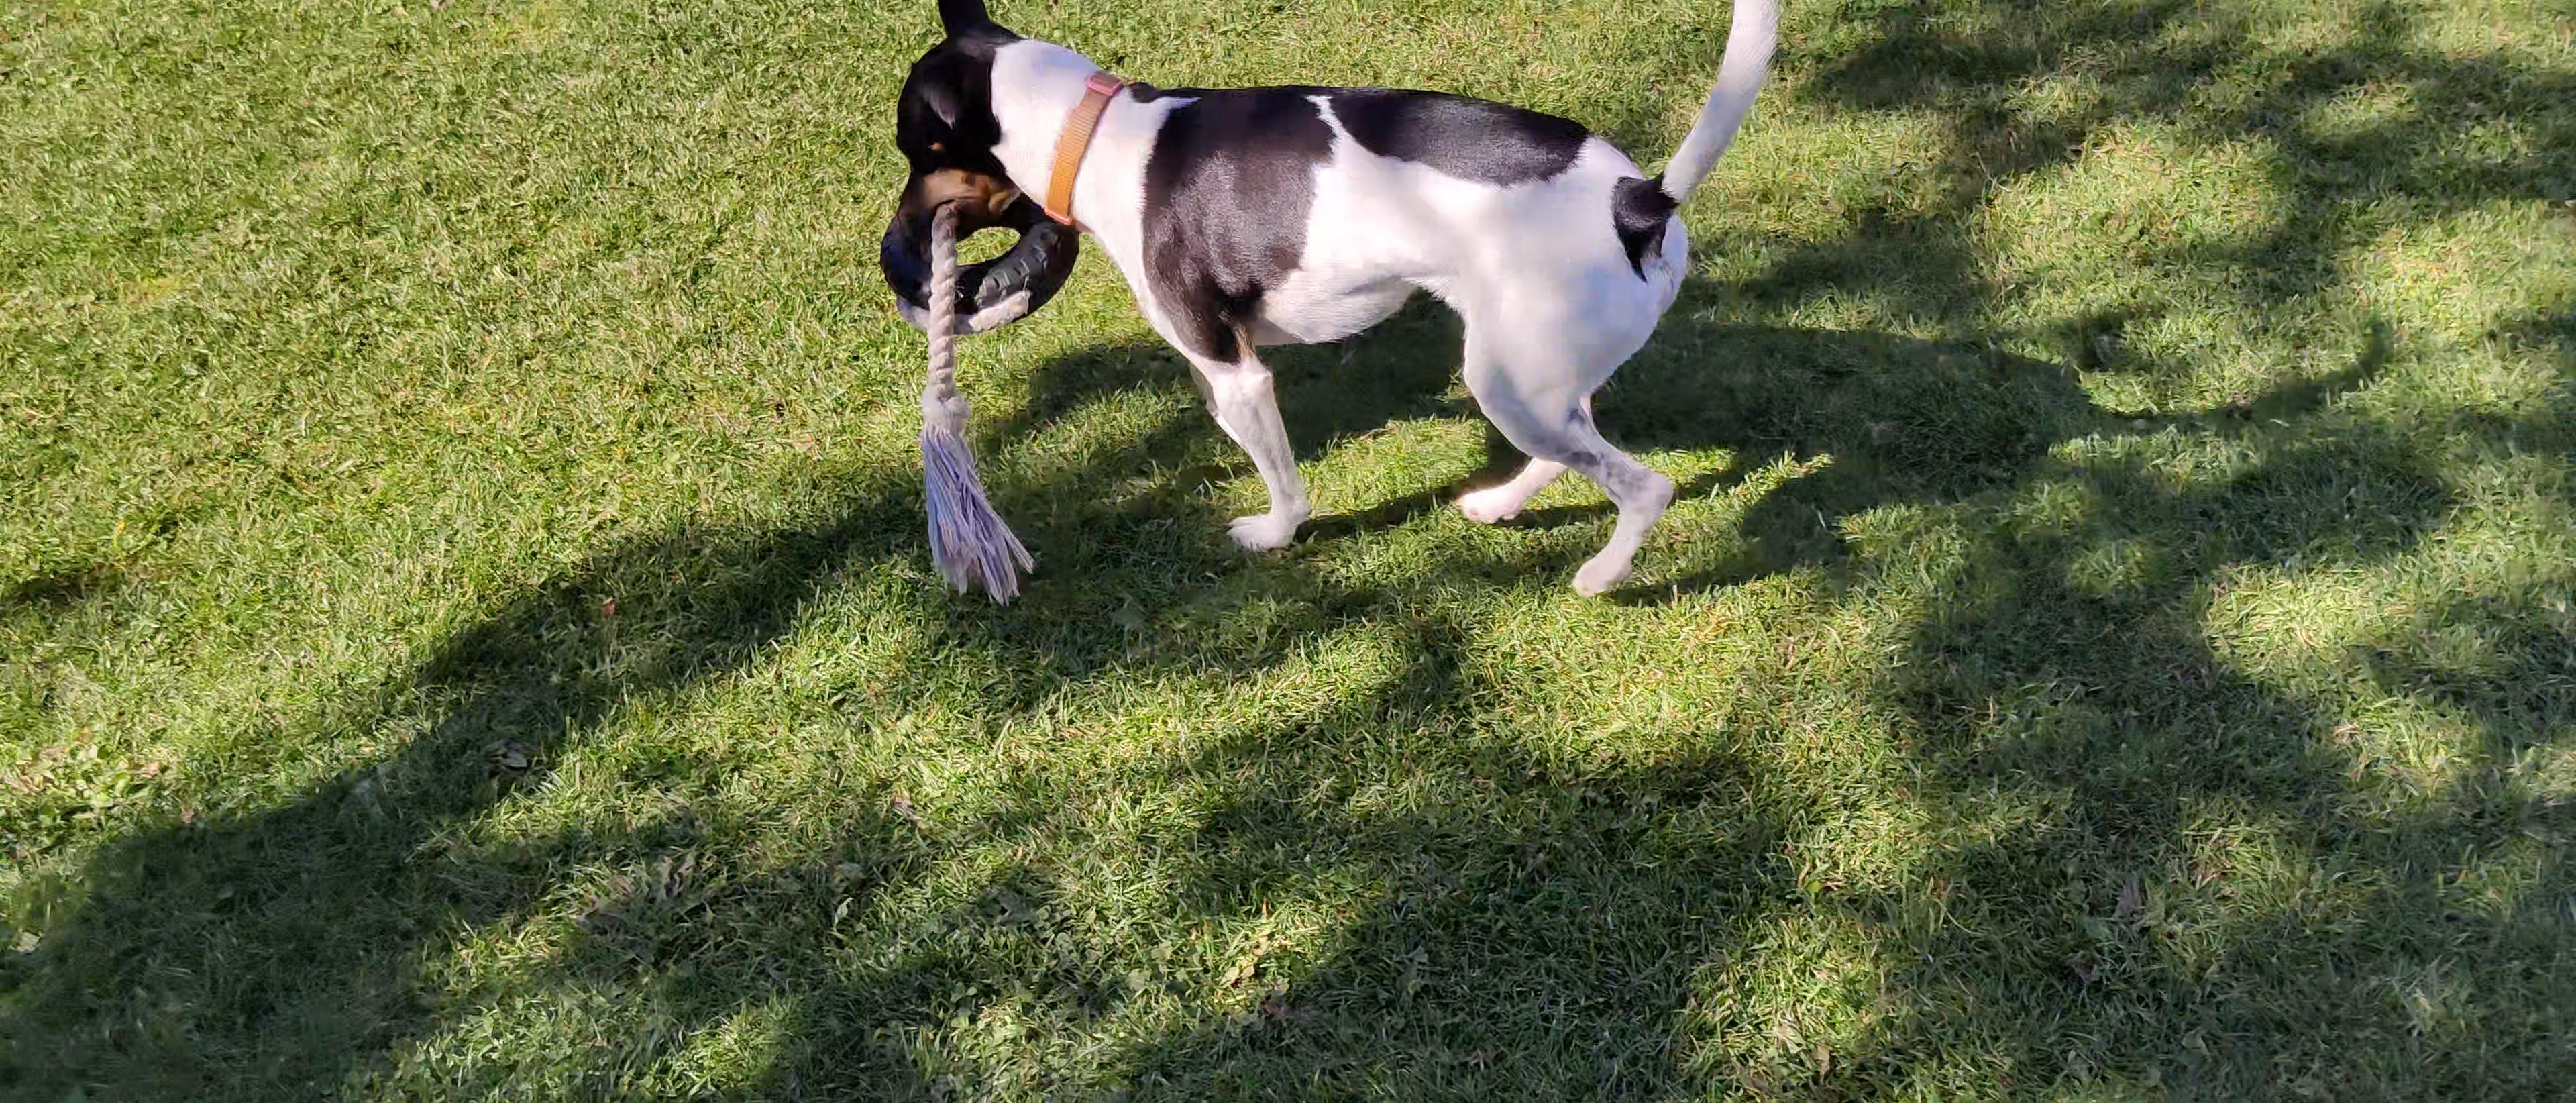Dog: (882, 0, 1799, 625)
